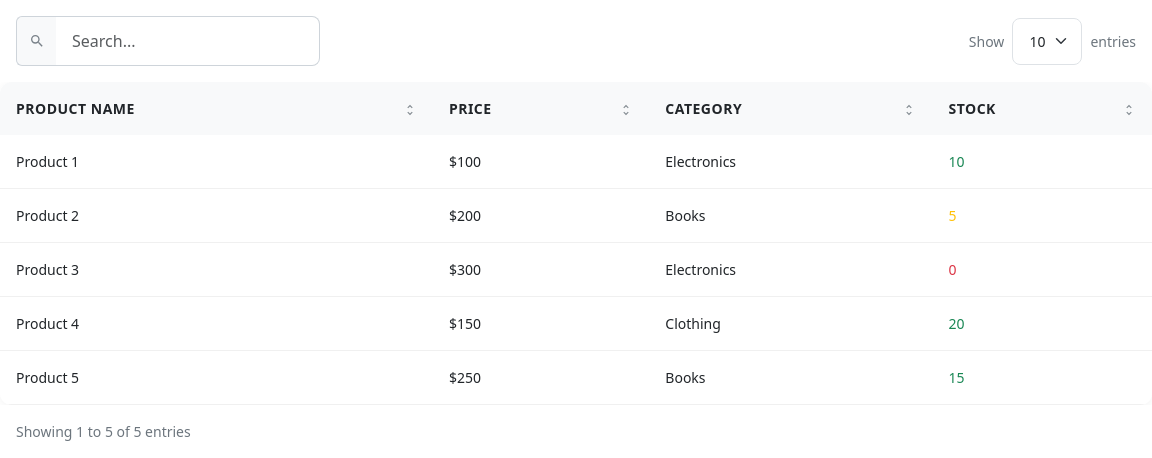
Scenario: DataTable Component › Filtering › should show no results when search matches nothing
Type "NonexistentProduct" into the field with placeholder "Search..." at {"x": 188, "y": 41}, box x1=56 y1=16 x2=320 y2=66
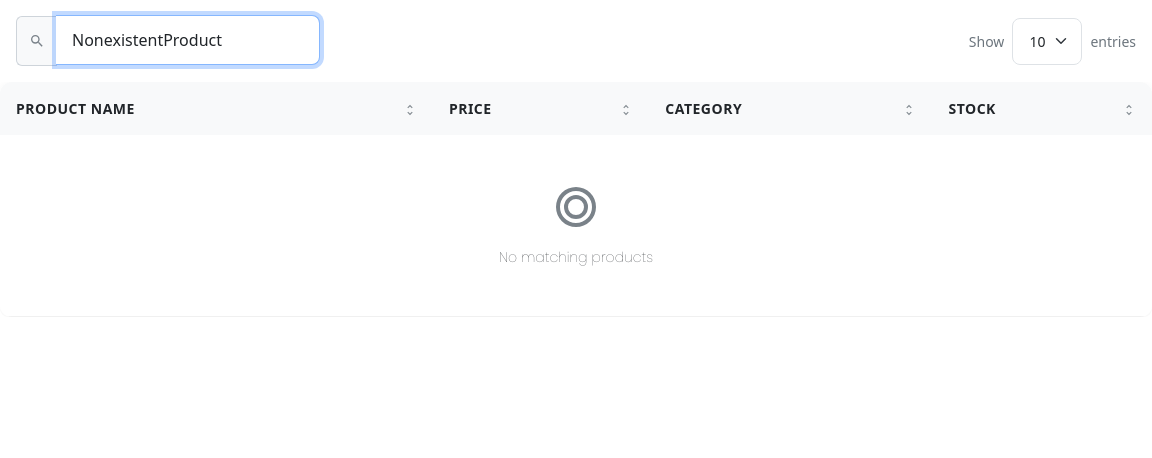
Expected: the text "No matching products" is shown, x1=499 y1=247 x2=653 y2=268
